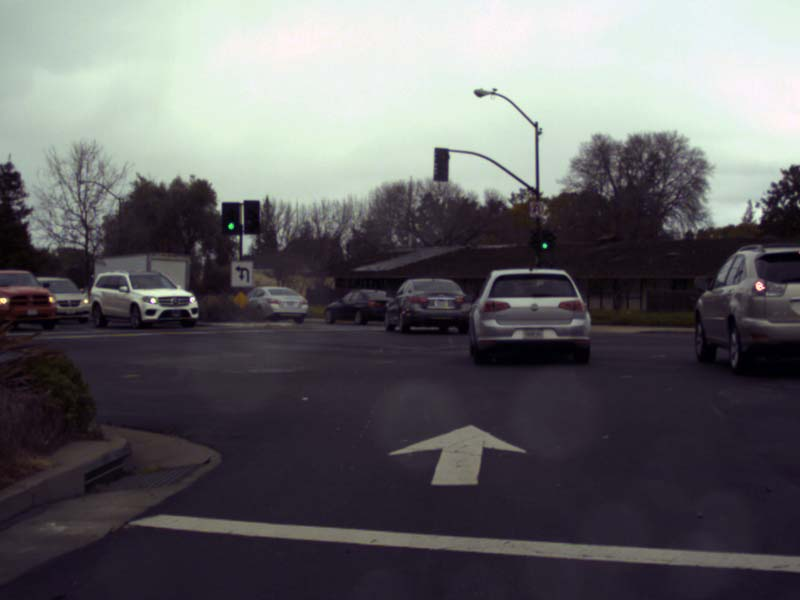Green: (222, 201, 240, 237), (540, 227, 550, 251)
Red: (243, 199, 259, 234), (434, 147, 447, 180)
